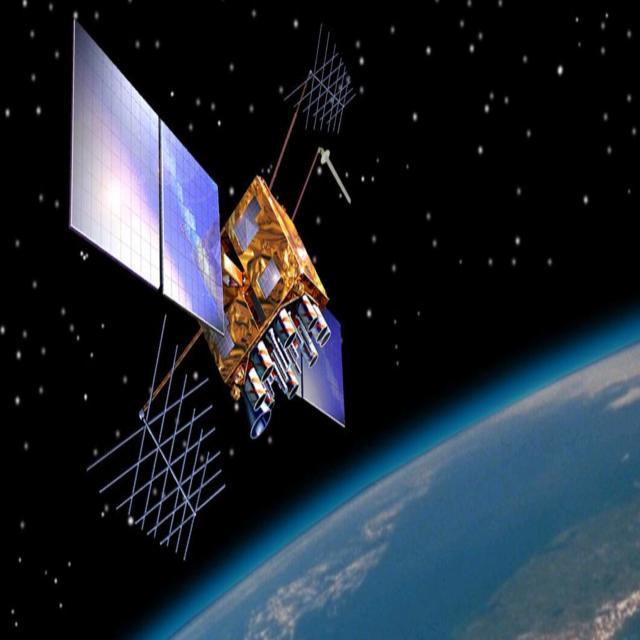sat: (60, 0, 367, 570)
